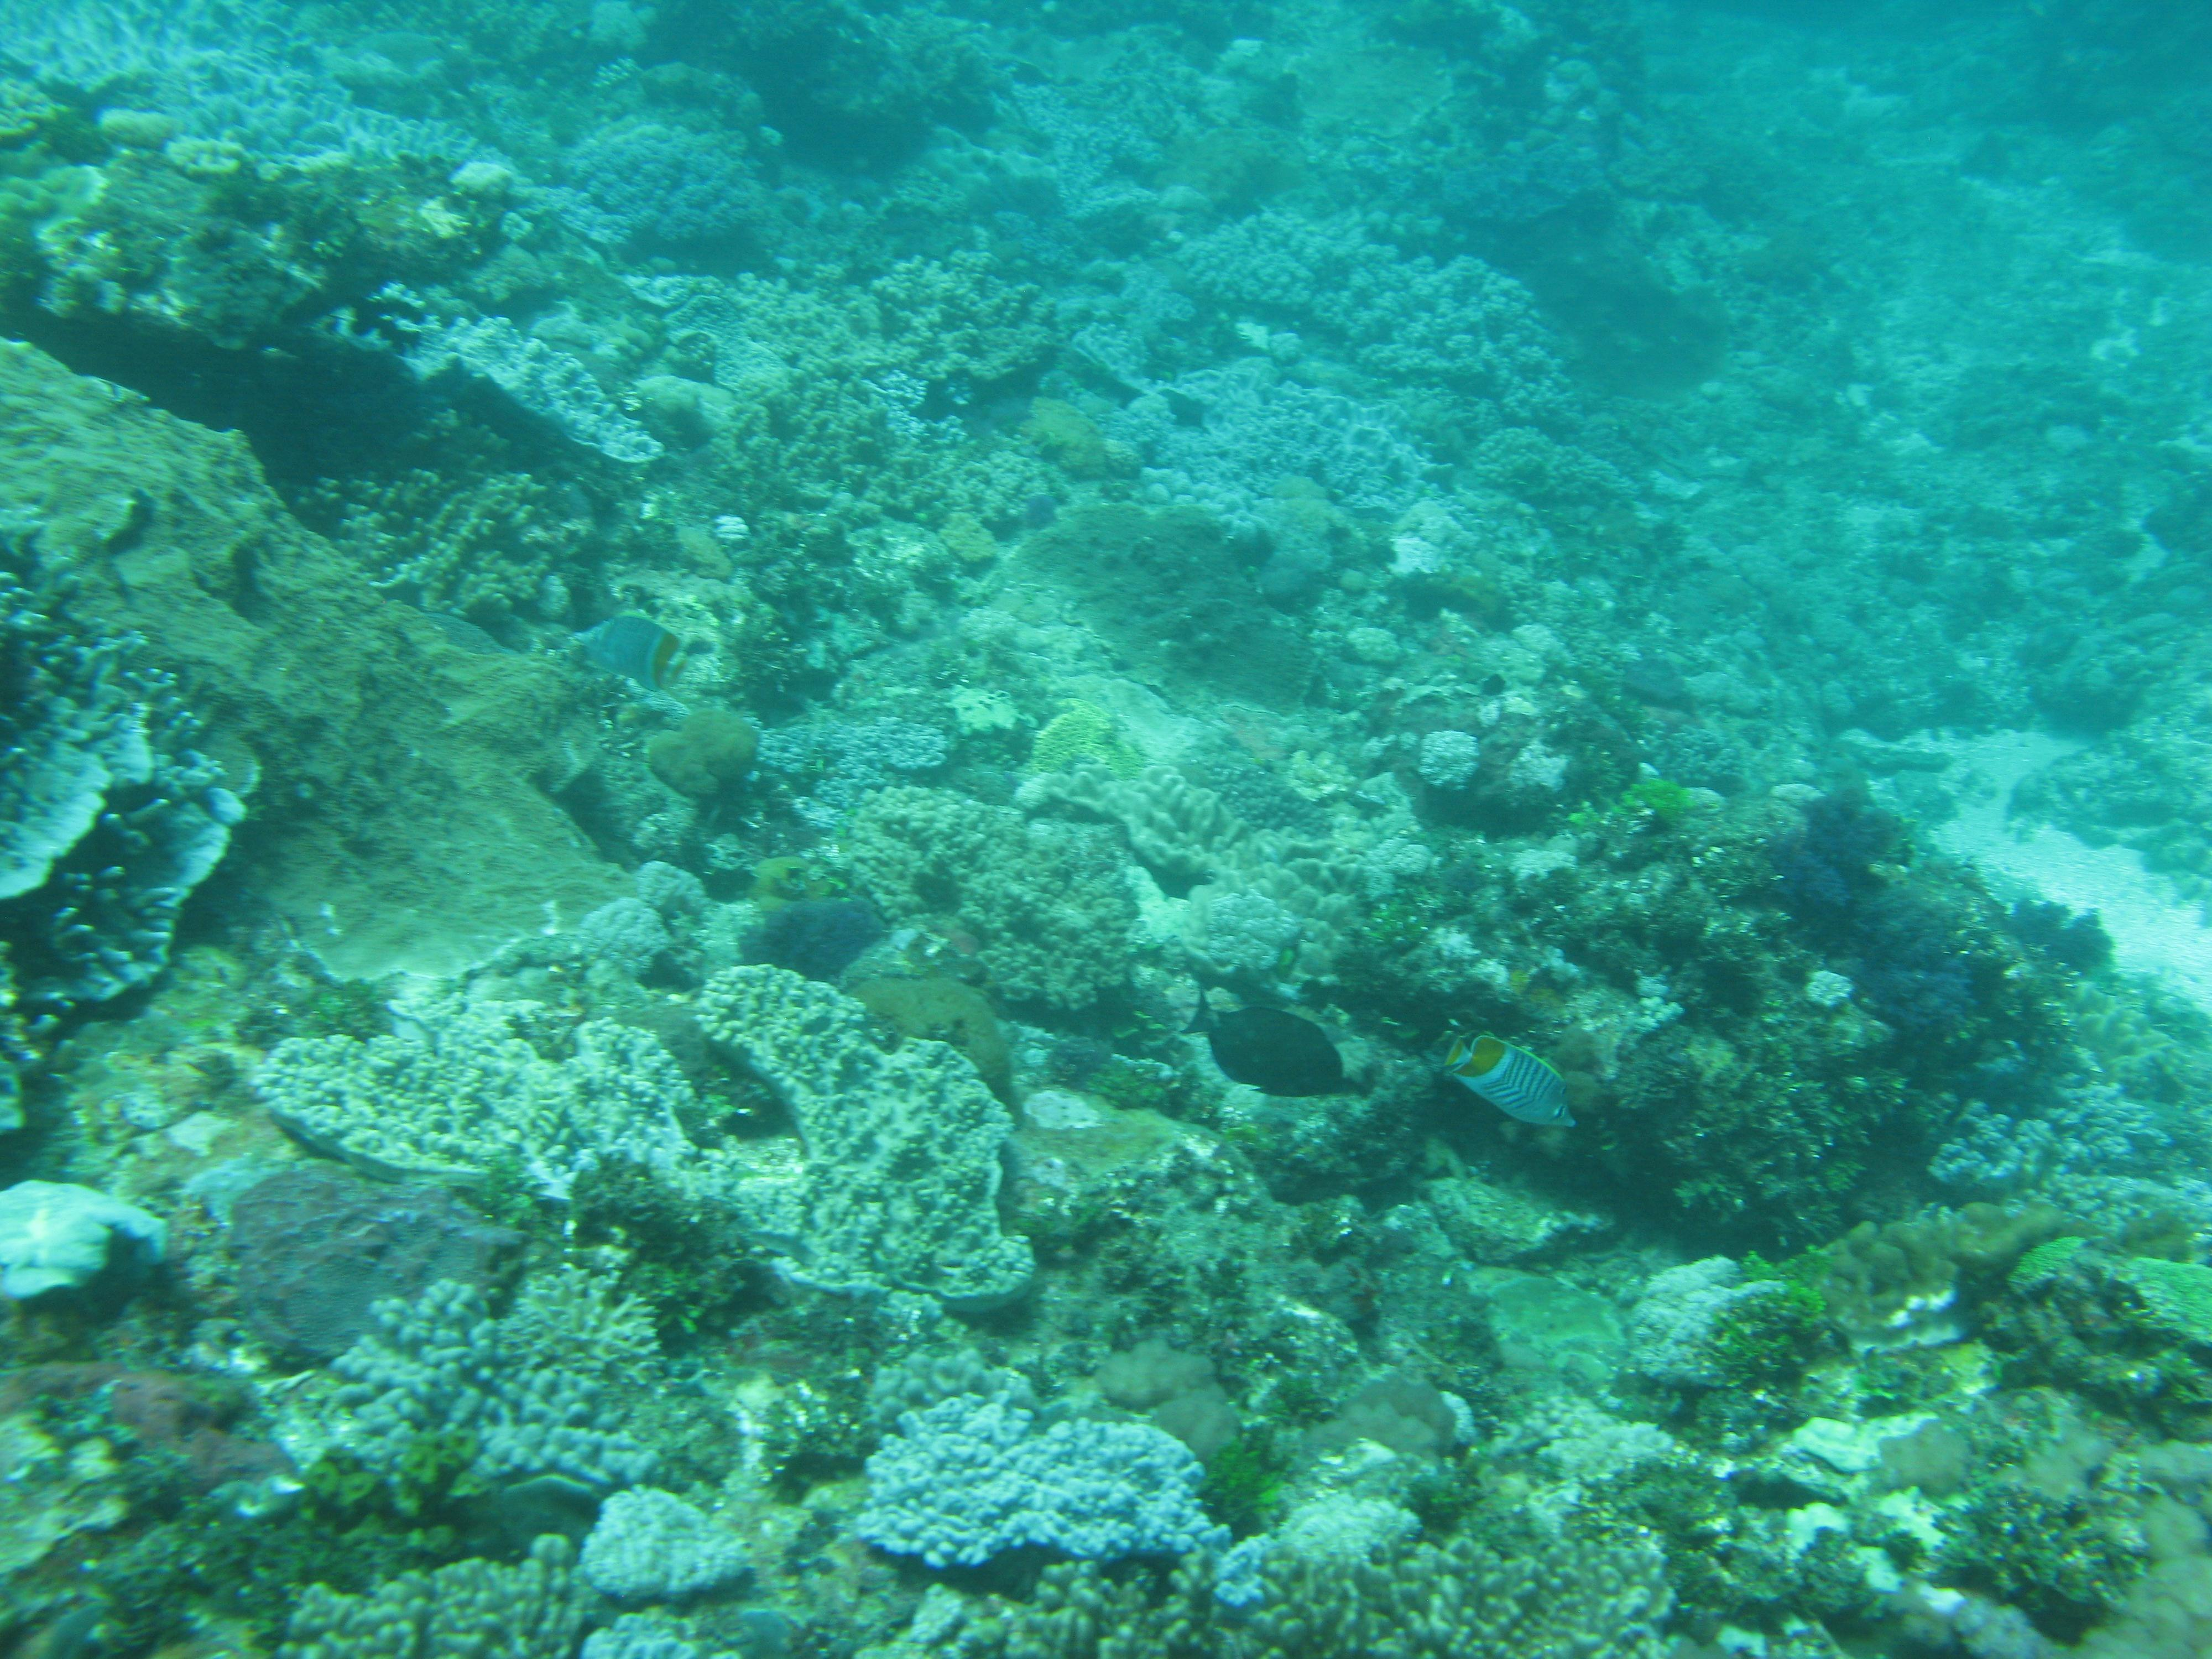Fish: (1421, 985, 1613, 1159), (549, 589, 705, 711)
